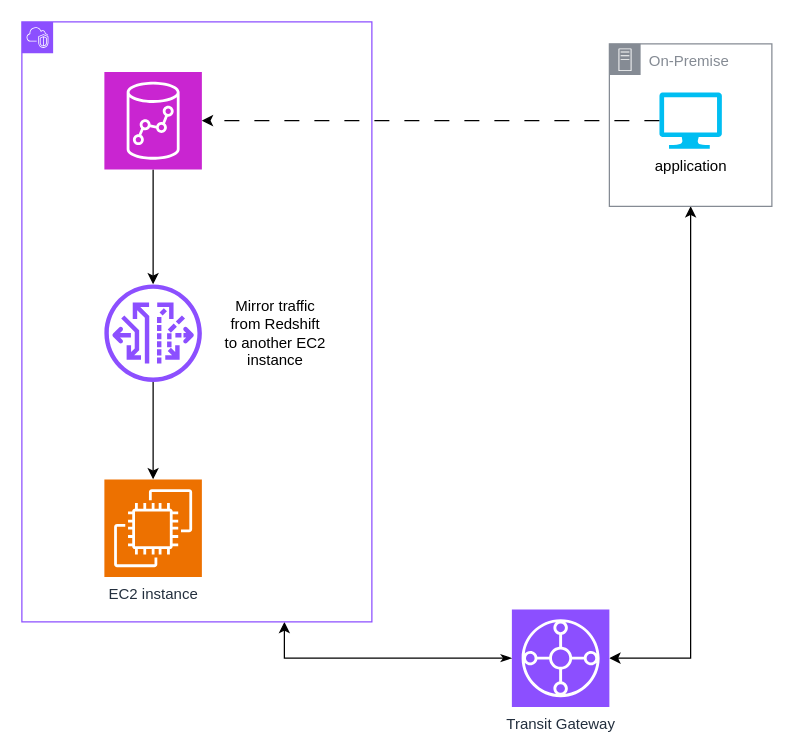
This 794x755 diagram has some shape labels left out. The box of each missing label's shape, as (x1, y1, x2, y2) in pixels:
Redshift: (103, 71, 202, 169)
VPC: (21, 21, 372, 622)
